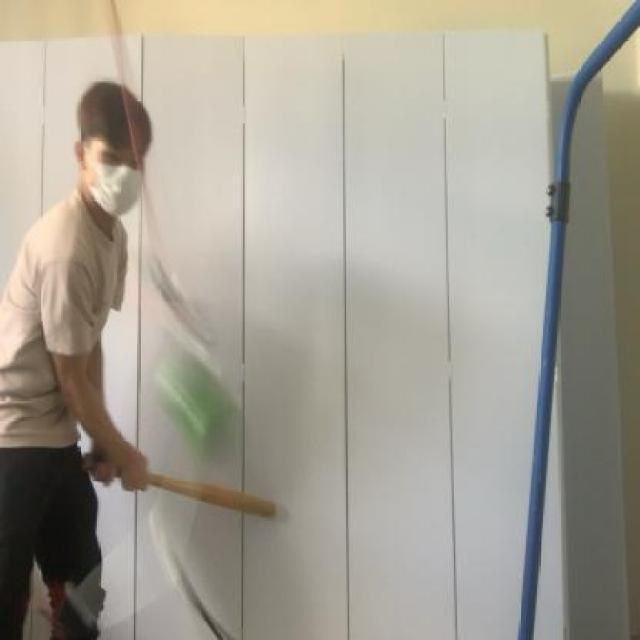baseball: (133, 328, 242, 462)
